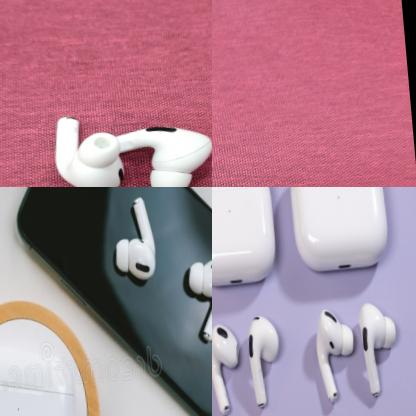Airpods: (37, 74, 151, 187), (88, 111, 212, 187), (354, 300, 404, 406), (310, 303, 356, 404), (112, 196, 157, 287), (244, 314, 286, 410), (212, 322, 245, 415), (186, 255, 212, 352)
